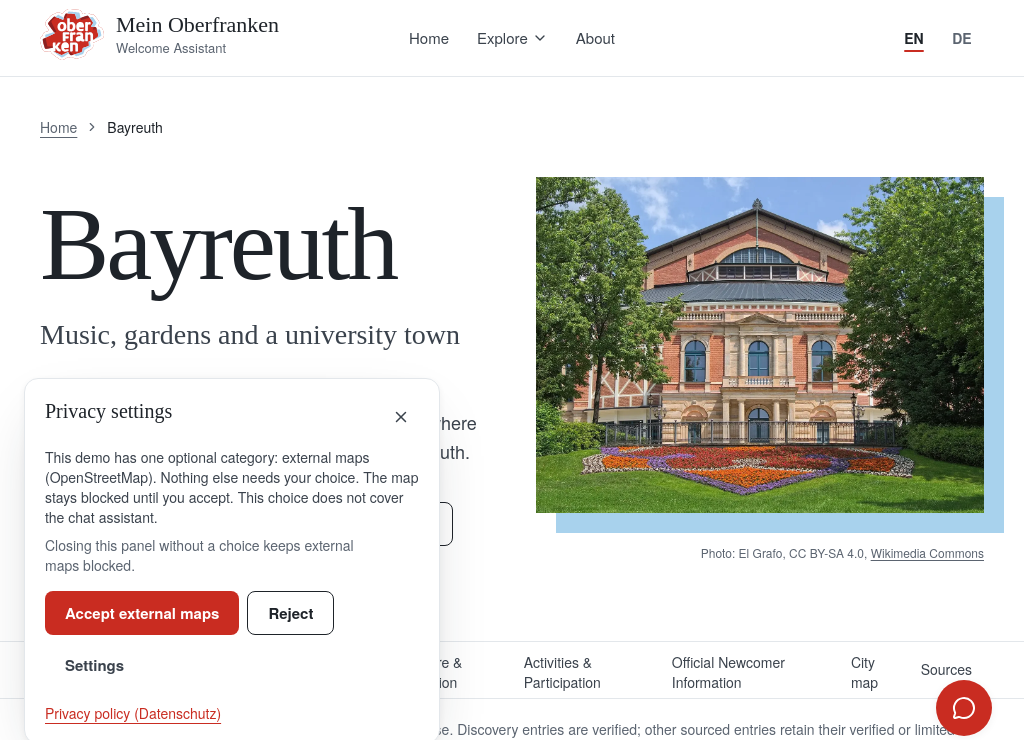
Scenario: catalog-driven discovery on bayreuth › in de › shows every restaurant with all required facts, exactly as the catalog has them
This screenshot has width=1024, height=740.
Click the button with aria-label "Deutsch" at (962, 38), box [940,16,984,60]
(page scrolled)
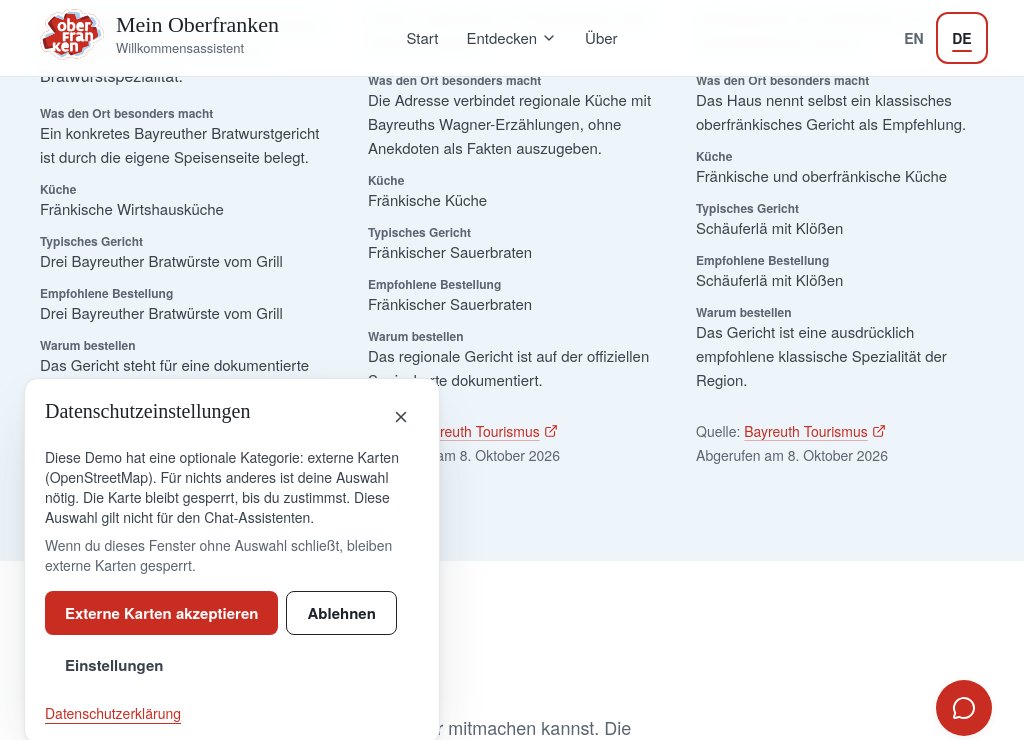
Result: the text "Zentral gelegenes Bayreuther Wirtshaus mit regionaler Küche und lokaler Bratwurstspezialität." is shown at [40,13,326,87]
Result: the text "Ein konkretes Bayreuther Bratwurstgericht ist durch die eigene Speisenseite belegt." is shown at [40,122,319,167]
Result: the text "Fränkische Wirtshausküche" is shown at [40,198,224,219]
